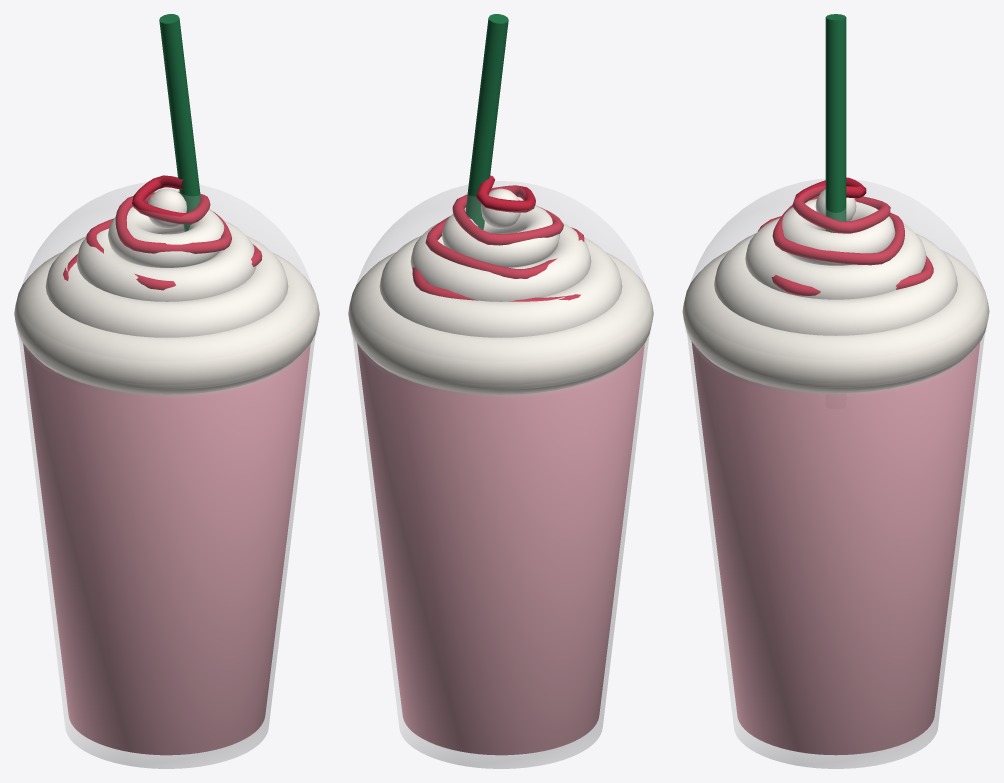
The model's file is frape-morango.glb.
3 views of the same model, side by side, from view 1: azimuth 30°, elevation 25°; view 2: azimuth 150°, elevation 25°; view 3: azimuth 270°, elevation 25° (orthographic).
Size of the model in its own units: 0.09 by 0.2299 by 0.09.
